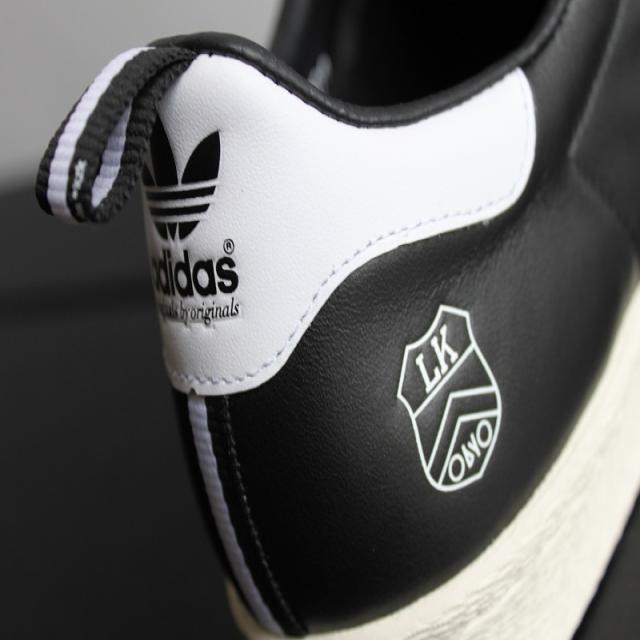adidas: (143, 113, 247, 304)
